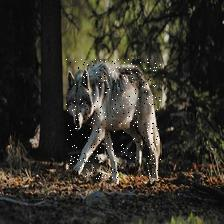WOLF: (67, 60, 162, 180)
